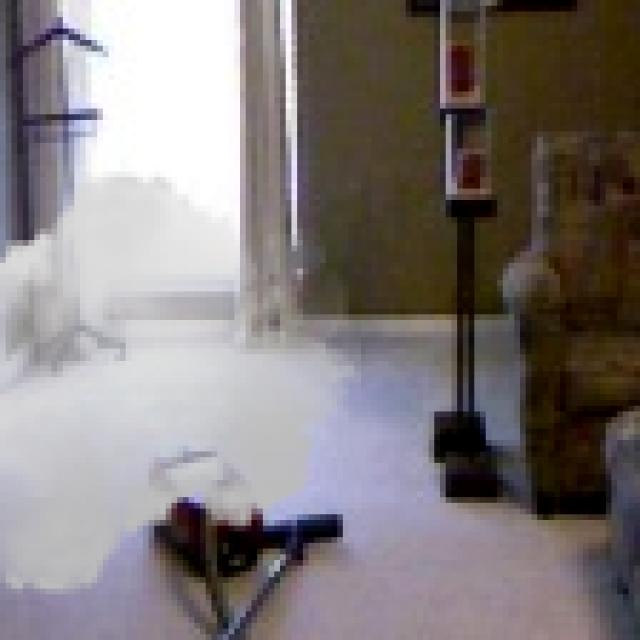smoke: (0, 154, 360, 612)
